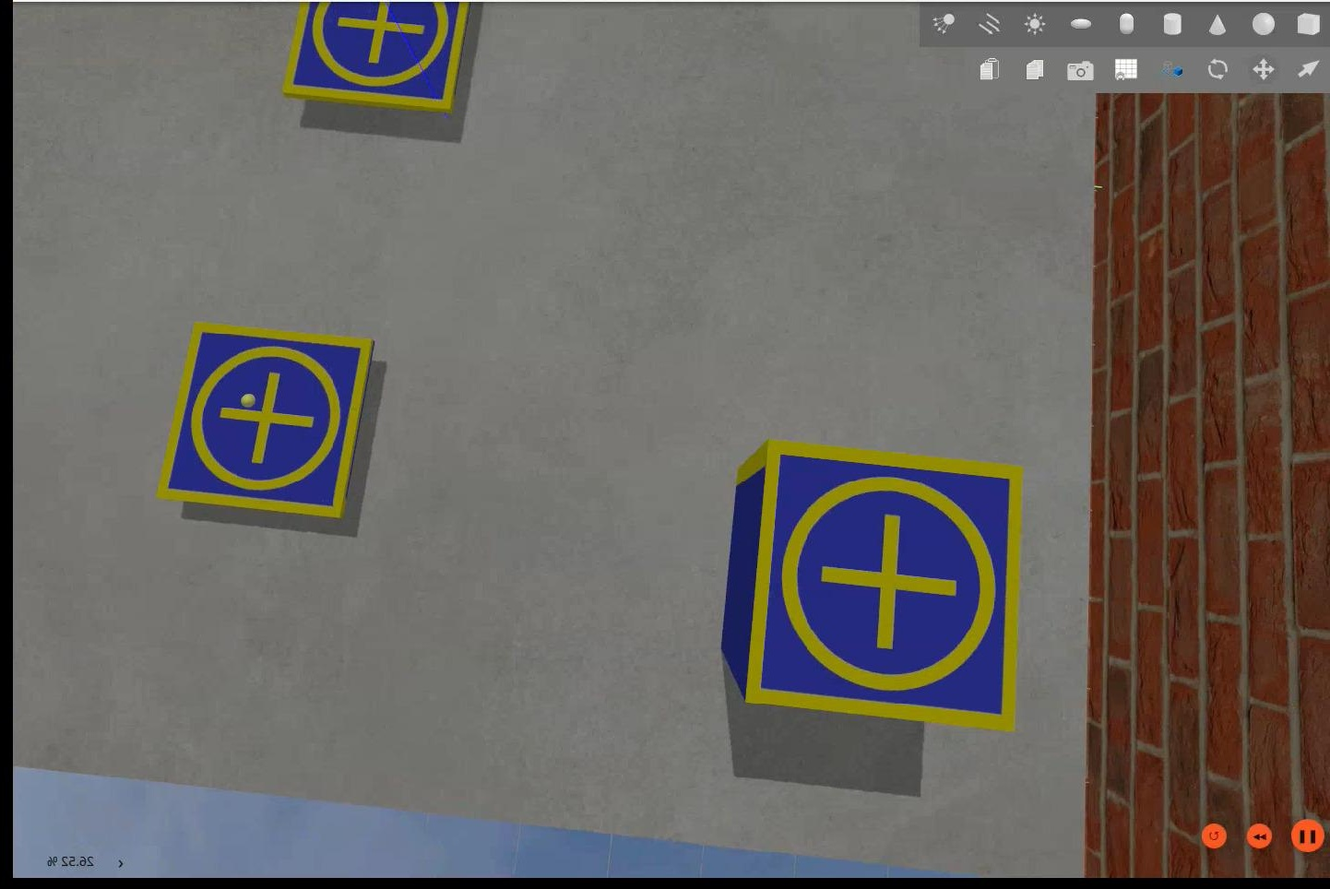small_base: (737, 441, 1023, 735), (150, 321, 375, 521), (279, 1, 468, 113)
